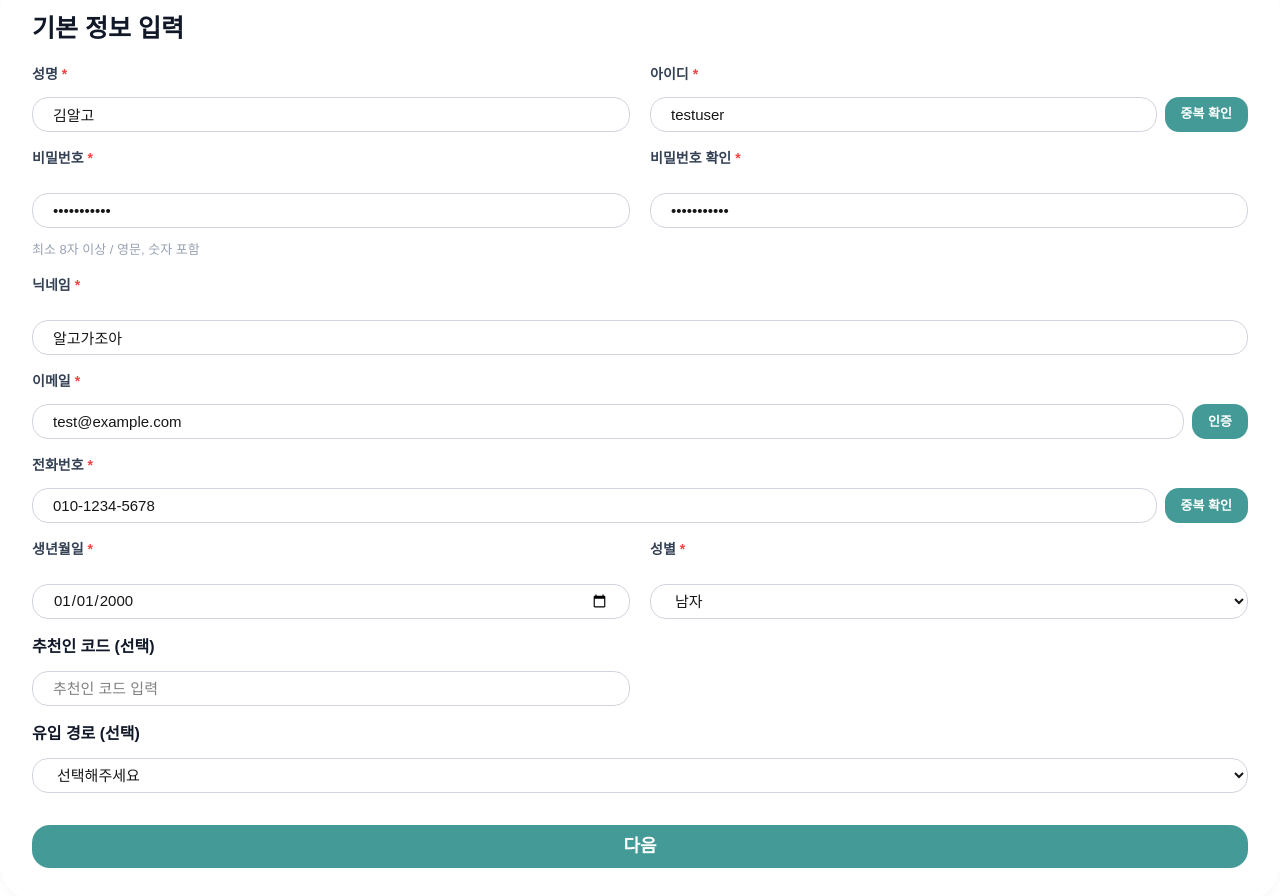
Test: RegisterInfoForm 컴포넌트 테스트 › 비밀번호와 비밀번호 확인이 다르면 안내 문구가 보인다
The width and height of the screenshot is (1280, 896).
(page scrolled)
What coordinates should you click on to do the following:
click the button with aria-label "다음 단계로 이동"
I would click on:
 (640, 846)
Its box is x1=32 y1=825 x2=1248 y2=868.
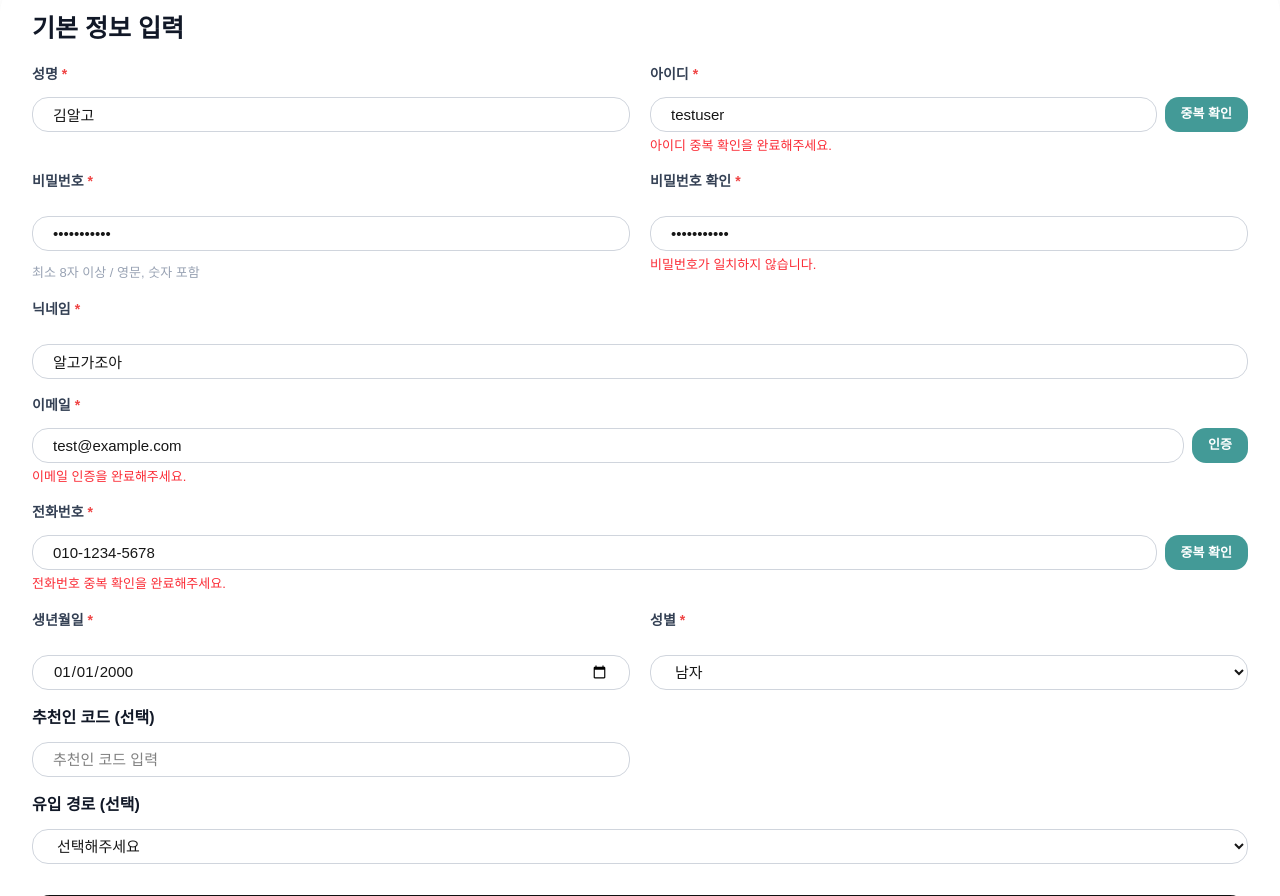
Result: the text "비밀번호가 일치하지 않습니다." is shown at x1=650 y1=257 x2=816 y2=272
